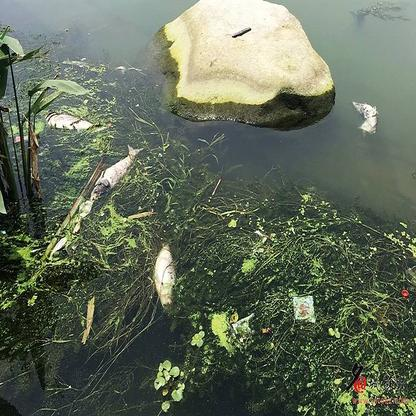deceased fish: (95, 143, 147, 199), (150, 242, 182, 315), (41, 107, 99, 135)
